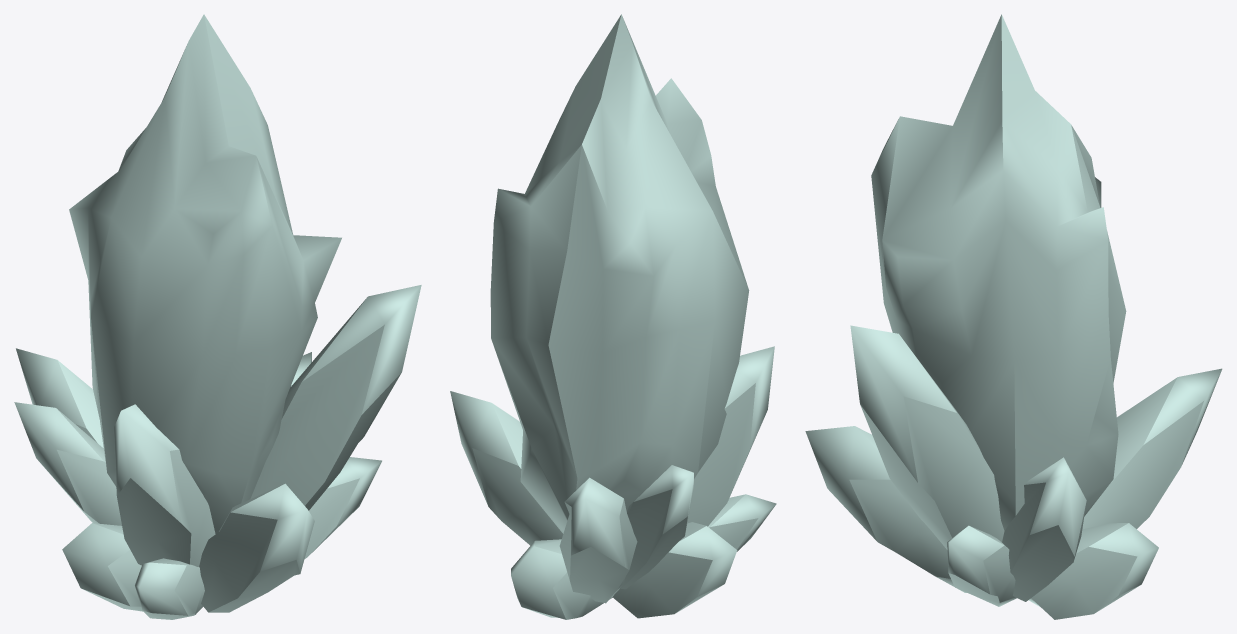
The model's file is Big.fbx.
3 views of the same model, side by side, from view 1: azimuth 30°, elevation 25°; view 2: azimuth 150°, elevation 25°; view 3: azimuth 270°, elevation 25° (orthographic). The views are drawn at different scales.
Parts seen in each view (by area): view 1: Big; view 2: Big; view 3: Big.
Part boxes in pixels (box(x1,y1,x2,y2)): Big: box(14, 14, 421, 619); Big: box(450, 14, 776, 619); Big: box(805, 14, 1222, 619).
Bounding box in the file's own units: 3.71 × 7.53 × 4.81.
